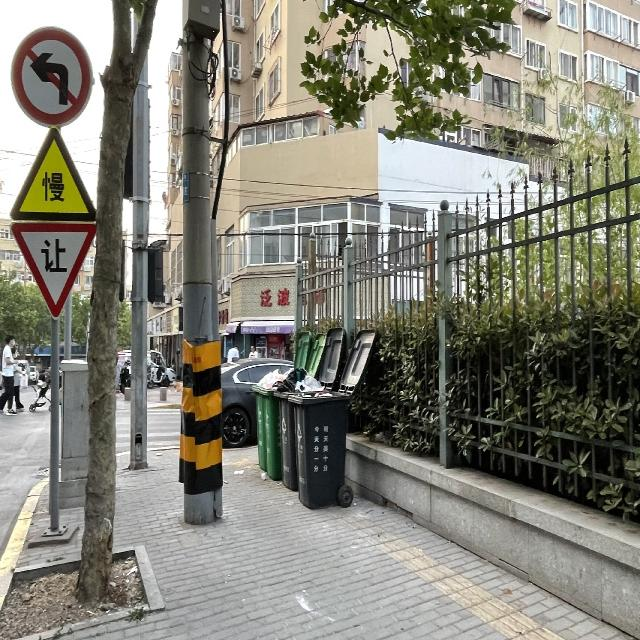overflow: (288, 390, 350, 507), (272, 366, 325, 492), (250, 366, 283, 481)
